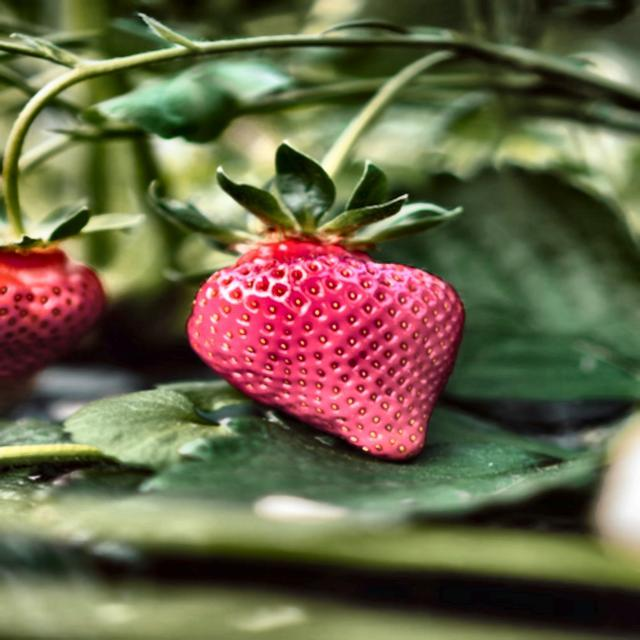strawberry: (188, 239, 464, 460), (0, 246, 105, 377)
